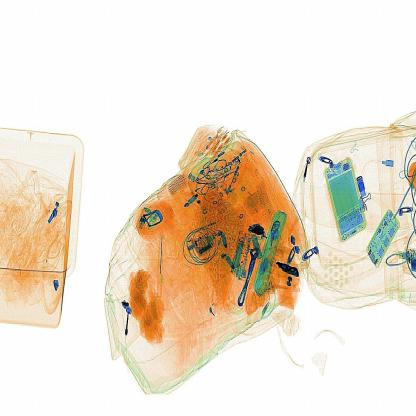pliers: (146, 221, 181, 305)
